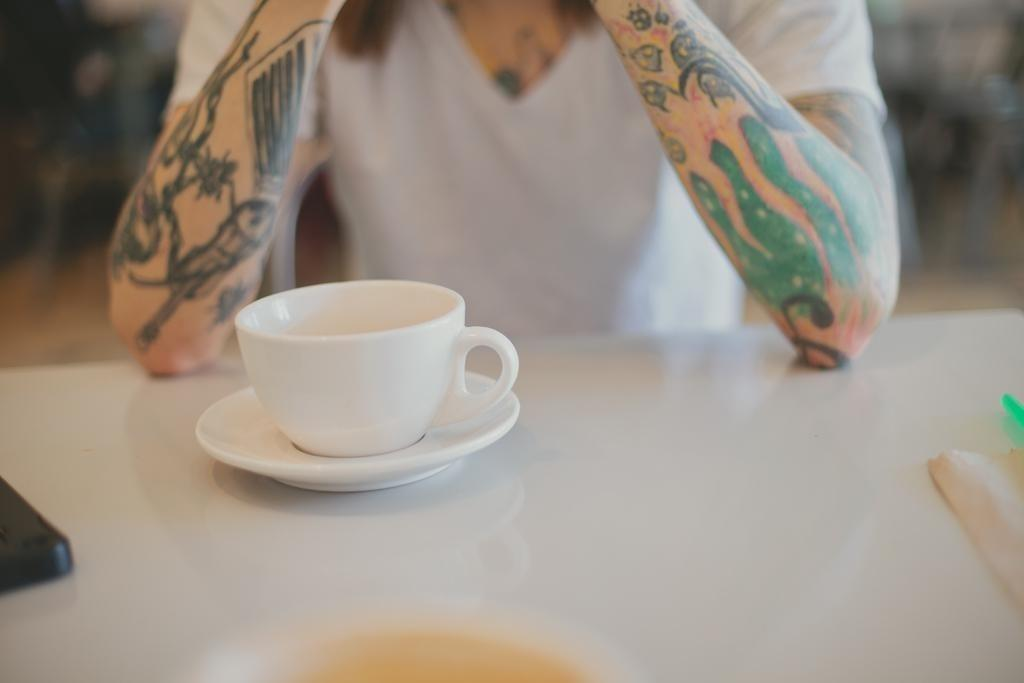cup-handle: (235, 274, 518, 457)
